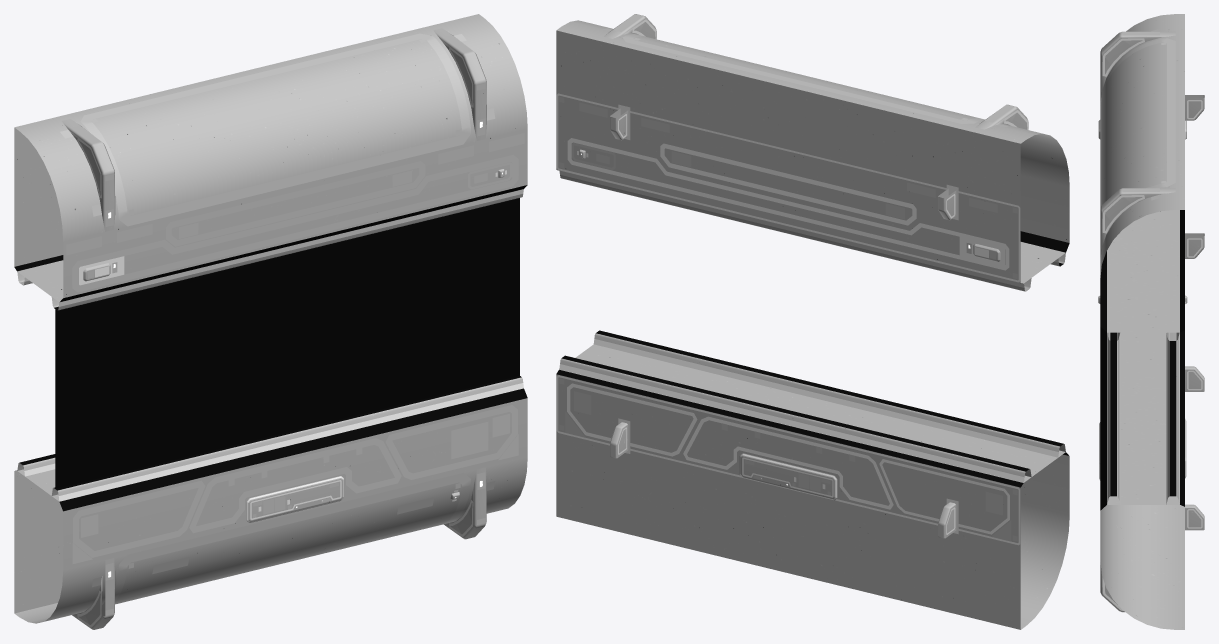
Rendered from SM_Modular_WallWindow_2_Merged.fbx.
3 renders of one model, left to right at view 1: azimuth 30°, elevation 25°; view 2: azimuth 150°, elevation 25°; view 3: azimuth 270°, elevation 25°, orthographic. The views are drawn at different scales.
Visible parts, largest first — view 1: SM_Modular_WallWindow_2_Merged_LOD0; view 2: SM_Modular_WallWindow_2_Merged_LOD0; view 3: SM_Modular_WallWindow_2_Merged_LOD0.
Boxes of the visible parts, bbox=[...] form: SM_Modular_WallWindow_2_Merged_LOD0: bbox=[14, 14, 527, 629]; SM_Modular_WallWindow_2_Merged_LOD0: bbox=[556, 14, 1069, 629]; SM_Modular_WallWindow_2_Merged_LOD0: bbox=[1098, 14, 1204, 629].
Size of the model in its own units: 500 by 115 by 500.
